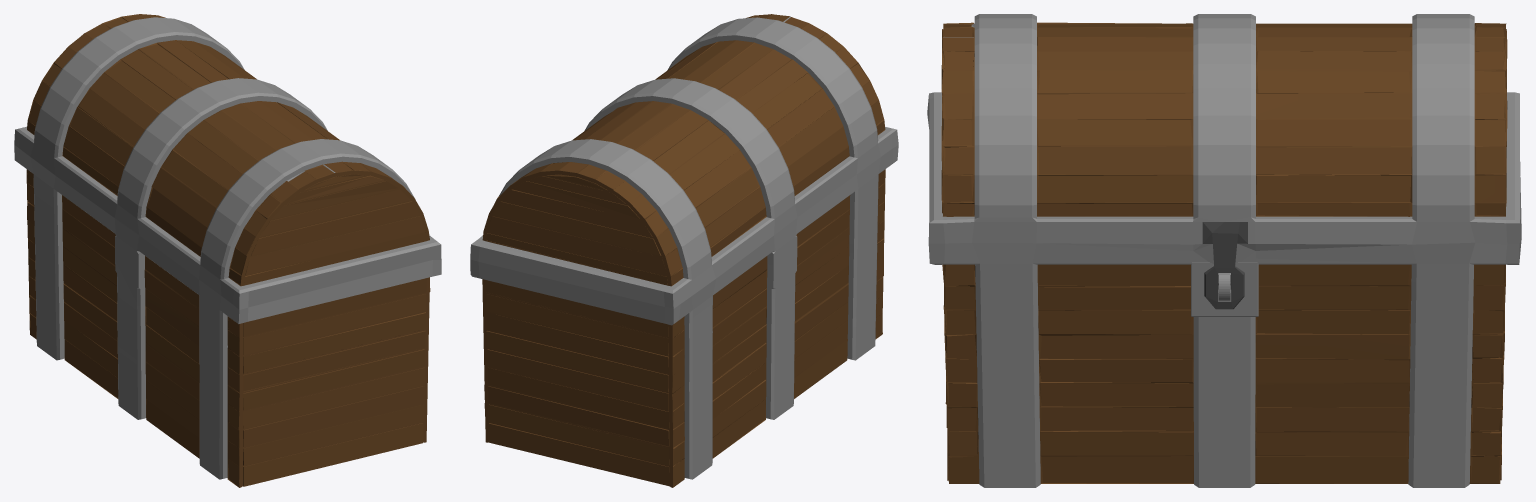
File: TreasureChest.fbx
3 views of the same model, side by side, from view 1: azimuth 30°, elevation 25°; view 2: azimuth 150°, elevation 25°; view 3: azimuth 270°, elevation 25° (orthographic). The views are drawn at different scales.
Parts seen in each view (by area): view 1: TreasureChest; view 2: TreasureChest; view 3: TreasureChest.
Boxes of the visible parts, bbox=[...] form: TreasureChest: bbox=[14, 14, 441, 487]; TreasureChest: bbox=[470, 14, 898, 487]; TreasureChest: bbox=[927, 14, 1521, 487].
Bounding box in the file's own units: 208 × 279 × 380.
